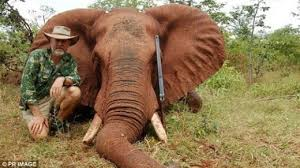Elephant: (28, 7, 225, 165)
